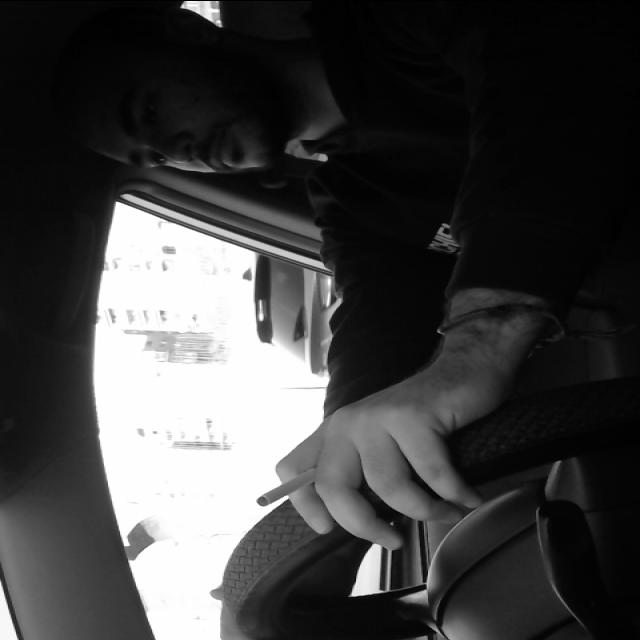smoking: (250, 450, 364, 510)
